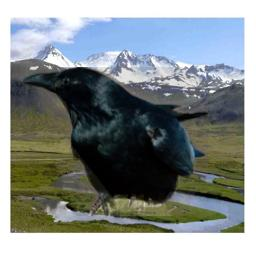Crow: (22, 67, 208, 216)
